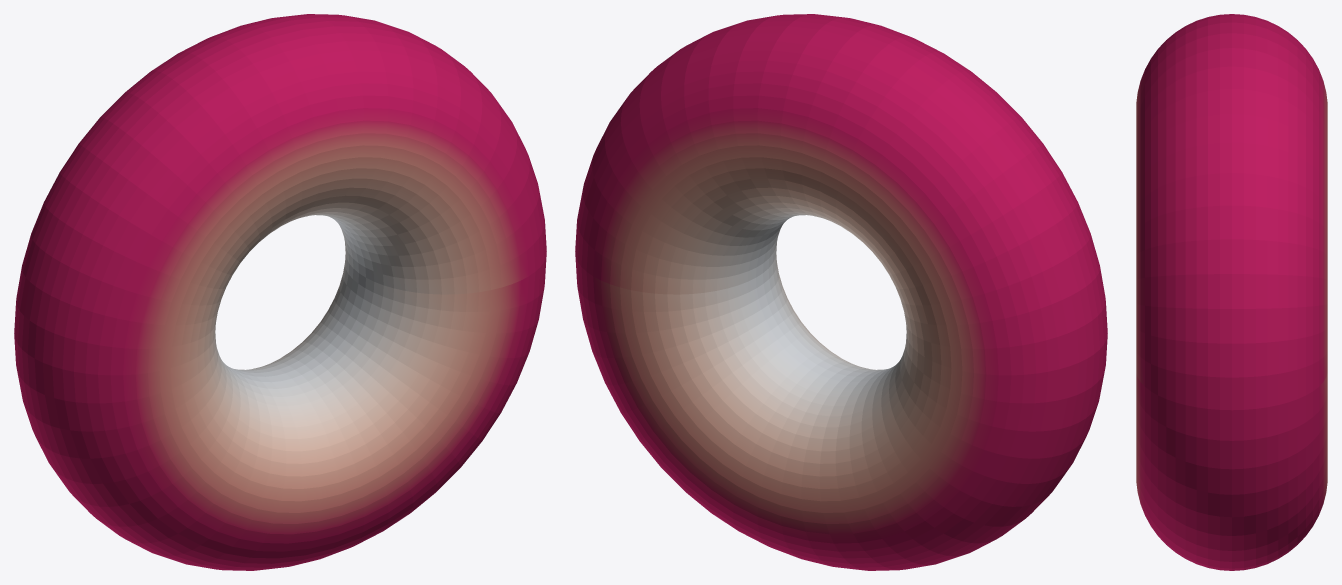
3 renders of one model, left to right at view 1: azimuth 30°, elevation 25°; view 2: azimuth 150°, elevation 25°; view 3: azimuth 270°, elevation 25°, orthographic. The views are drawn at different scales.
Parts seen in each view (by area): view 1: world; view 2: world; view 3: world.
Boxes of the visible parts, x1,y1,x2,y2 form: world: (14, 14, 546, 570); world: (575, 14, 1107, 570); world: (1136, 14, 1327, 570).
Size of the model in its own units: 27.47 by 27.41 by 9.45.
